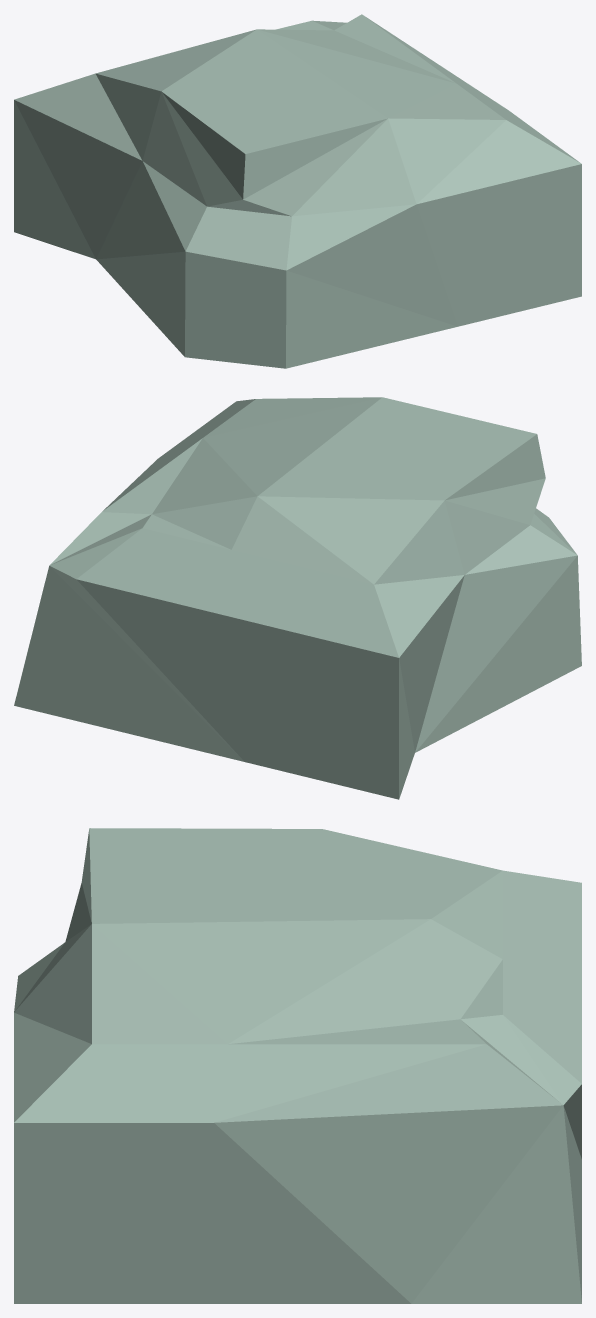
The model's file is Pebble2.fbx.
3 renders of one model, top to bottom at view 1: azimuth 30°, elevation 25°; view 2: azimuth 150°, elevation 25°; view 3: azimuth 270°, elevation 25°, orthographic. The views are drawn at different scales.
Parts seen in each view (by area): view 1: Pebble2; view 2: Pebble2; view 3: Pebble2.
Boxes of the visible parts, x1,y1,x2,y2 form: Pebble2: [14, 14, 581, 368]; Pebble2: [14, 397, 581, 799]; Pebble2: [14, 828, 581, 1303].
Bounding box in the file's own units: 166 × 87.03 × 166.
